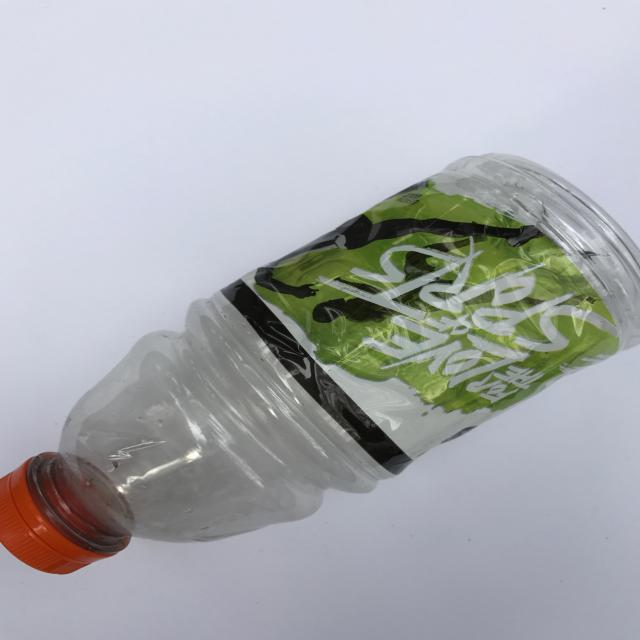plastic: (0, 151, 640, 575)
